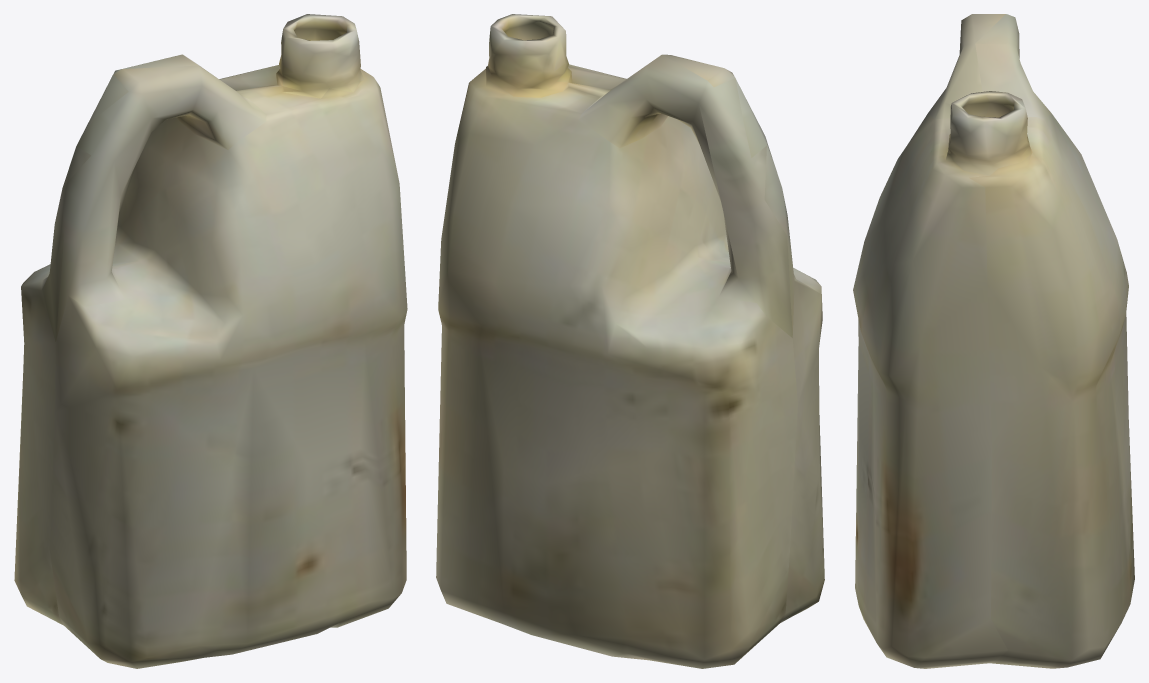
File: plastic_bottle_gallon.glb
The picture shows the model from 3 angles, left to right: view 1: azimuth 30°, elevation 25°; view 2: azimuth 150°, elevation 25°; view 3: azimuth 270°, elevation 25°; orthographic projection.
Visible parts, largest first — view 1: plastic_bottle_gallon; view 2: plastic_bottle_gallon; view 3: plastic_bottle_gallon.
Part boxes in pixels (left/top/right/bottom): plastic_bottle_gallon: left=14, top=14, right=407, bottom=668; plastic_bottle_gallon: left=436, top=14, right=824, bottom=668; plastic_bottle_gallon: left=853, top=14, right=1134, bottom=668.
Bounding box in the file's own units: 0.1668 × 0.2742 × 0.1269.
1 material, 1 textured.
